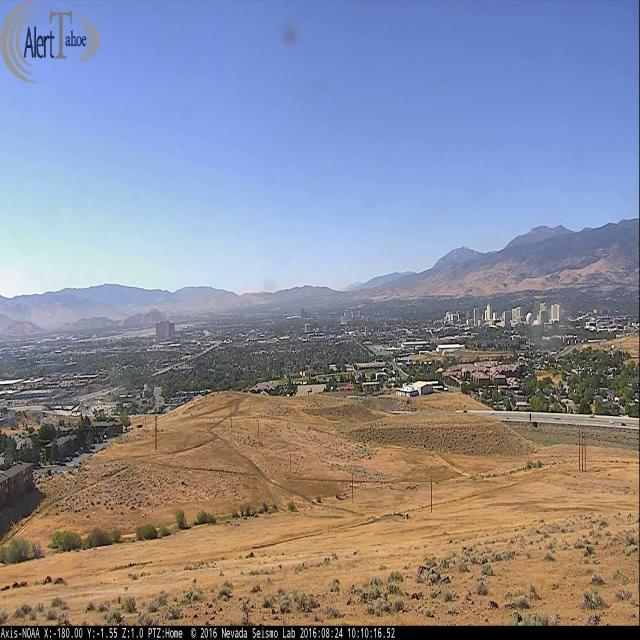smoke: (140, 378, 149, 398)
